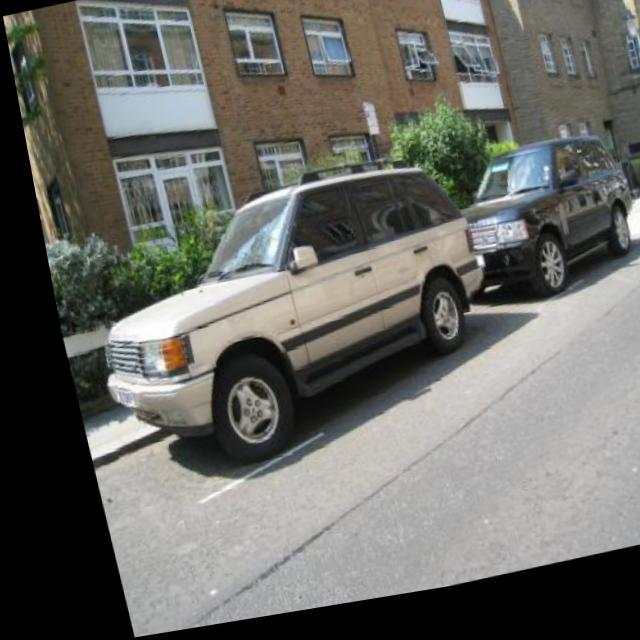license_plate: (98, 386, 120, 416), (462, 268, 472, 282)
